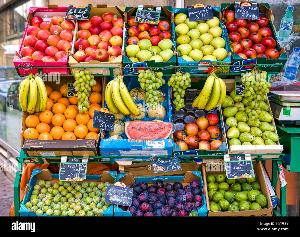apple: (167, 91, 225, 154), (21, 3, 79, 64), (120, 6, 176, 62), (226, 8, 280, 64), (71, 11, 125, 65), (175, 4, 225, 62)
orange: (16, 76, 104, 146)
pear: (224, 85, 278, 145)
plum: (21, 165, 109, 215), (128, 172, 204, 216)
